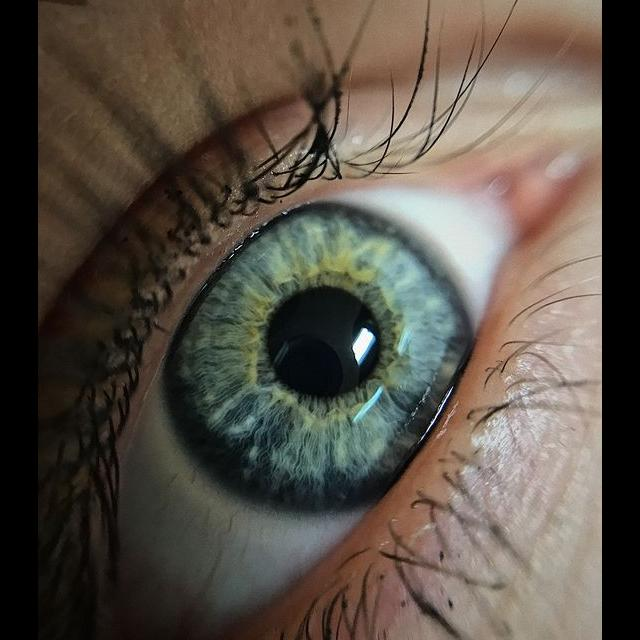eye: (127, 181, 513, 640)
iris: (170, 208, 472, 509)
